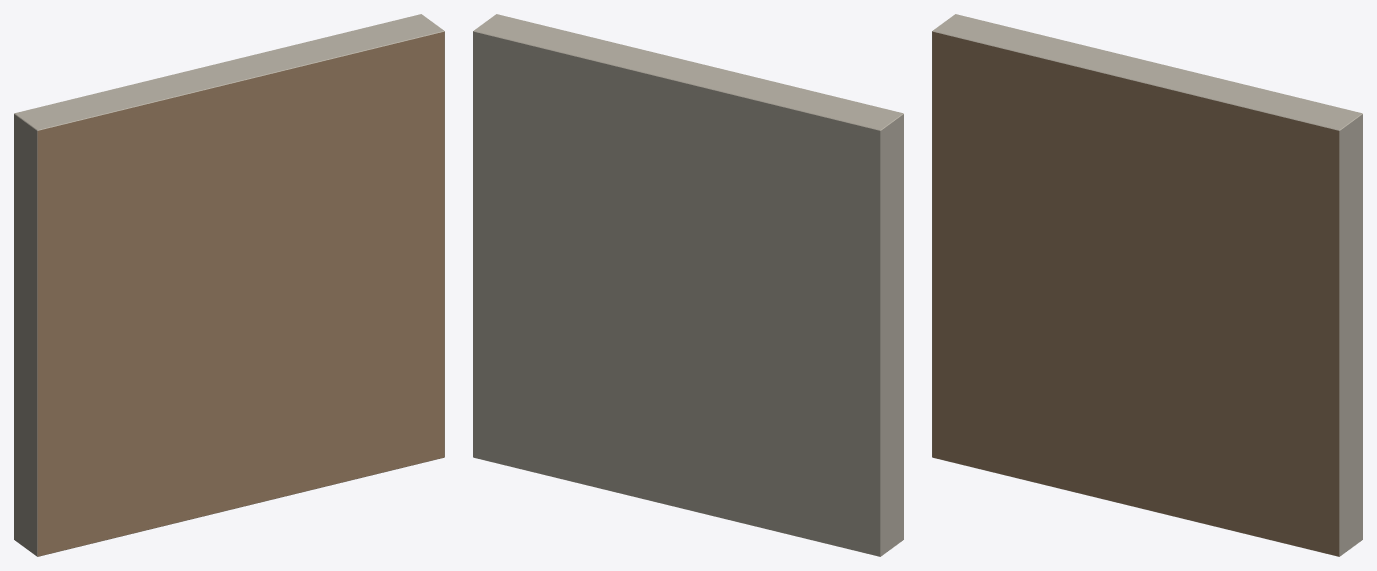
Rendered from arch_wall_ext_w400_h400.glb.
3 renders of one model, left to right at view 1: azimuth 30°, elevation 25°; view 2: azimuth 150°, elevation 25°; view 3: azimuth 330°, elevation 25°, orthographic.
Visible parts, largest first — view 1: Wall; view 2: Wall; view 3: Wall.
Part boxes in pixels (x1=…): Wall: x1=14, y1=14, x2=444, y2=556; Wall: x1=473, y1=14, x2=903, y2=556; Wall: x1=932, y1=14, x2=1362, y2=556.
Size of what is drawn, in the model's own units: 4 by 4 by 0.4.
